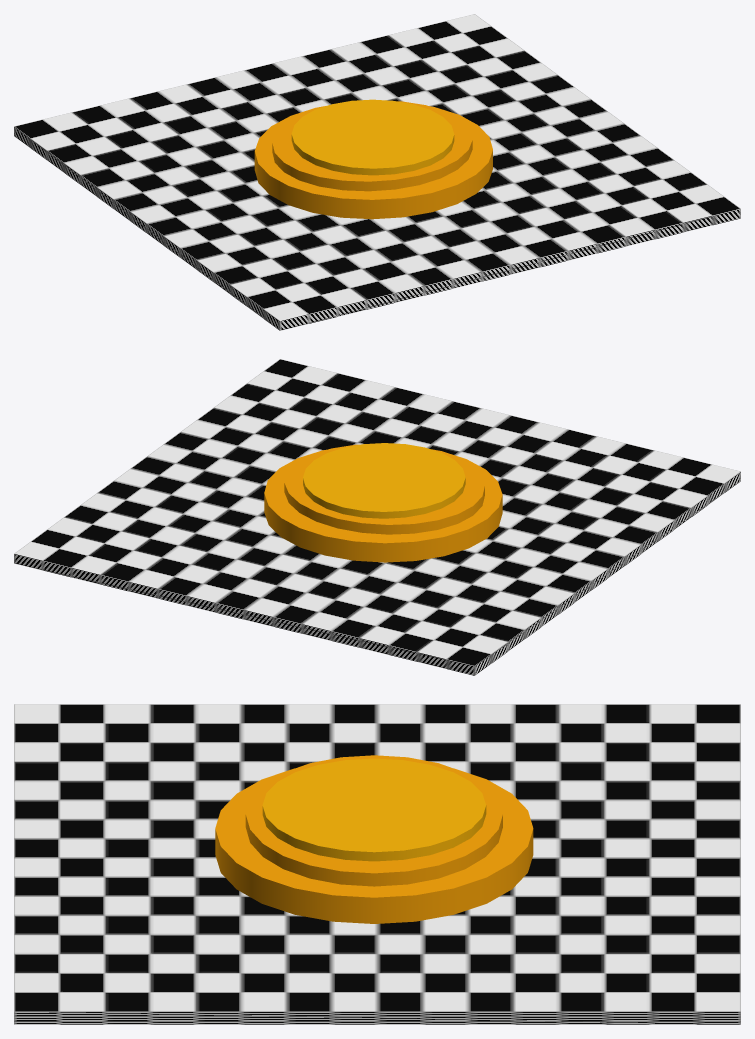
File: fnaf_ security breach fan map.fbx
3 views of the same model, one above another, from view 1: azimuth 30°, elevation 25°; view 2: azimuth 150°, elevation 25°; view 3: azimuth 270°, elevation 25° (orthographic). The views are drawn at different scales.
Parts seen in each view (by area): view 1: Box28, Cylinder4, Cylinder, Cylinder1; view 2: Box28, Cylinder4, Cylinder, Cylinder1; view 3: Box28, Cylinder4, Cylinder, Cylinder1.
Part boxes in pixels (x1,y1,x2,y2): Box28: [14, 14, 740, 330]; Cylinder4: [291, 99, 454, 175]; Cylinder: [254, 106, 492, 219]; Cylinder1: [272, 101, 472, 191]; Box28: [14, 359, 740, 675]; Cylinder4: [303, 443, 465, 518]; Cylinder: [264, 449, 502, 562]; Cylinder1: [284, 444, 484, 534]; Box28: [14, 704, 740, 1024]; Cylinder4: [262, 758, 486, 861]; Cylinder: [215, 768, 533, 923]; Cylinder1: [245, 755, 502, 886].
Bounding box in the file's own units: 25 × 2.35 × 25.
3 materials, 1 textured.
